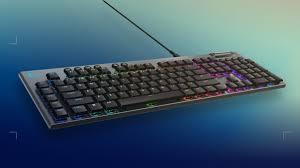keyboard: (17, 50, 286, 130)
